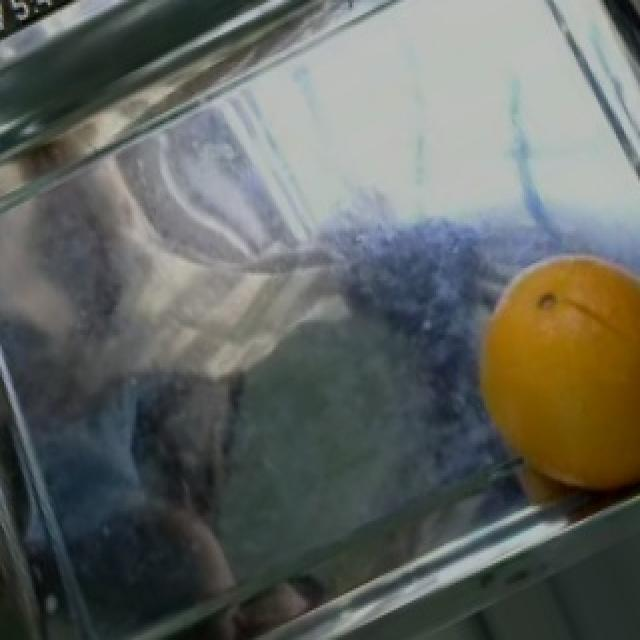Fruit: (458, 236, 640, 516)
